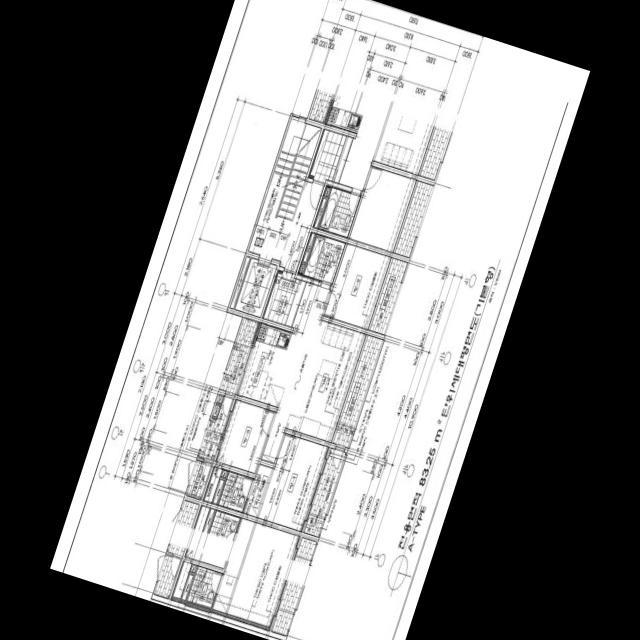background: (50, 0, 590, 640)
space_balconi: (333, 335, 382, 447), (304, 448, 345, 536), (370, 258, 407, 334), (221, 318, 258, 393), (199, 396, 233, 461)
space_bedroom: (259, 433, 329, 531), (324, 243, 390, 329), (216, 400, 274, 473)
space_dressroom: (244, 465, 272, 517)
space_elevator: (235, 258, 277, 317)
space_elevator_hall: (279, 180, 324, 270)
space_front: (263, 271, 307, 327)
space_kitchen: (239, 323, 301, 407)
space_living_room: (262, 282, 364, 463)
space_other: (230, 256, 250, 308), (187, 461, 212, 499), (203, 467, 222, 503), (303, 232, 315, 262), (213, 479, 224, 504), (213, 405, 220, 416), (217, 394, 223, 403), (299, 264, 305, 273), (221, 470, 227, 477)
space_staircase: (249, 119, 322, 260)
space_toilet: (304, 234, 345, 283), (219, 472, 253, 512)
